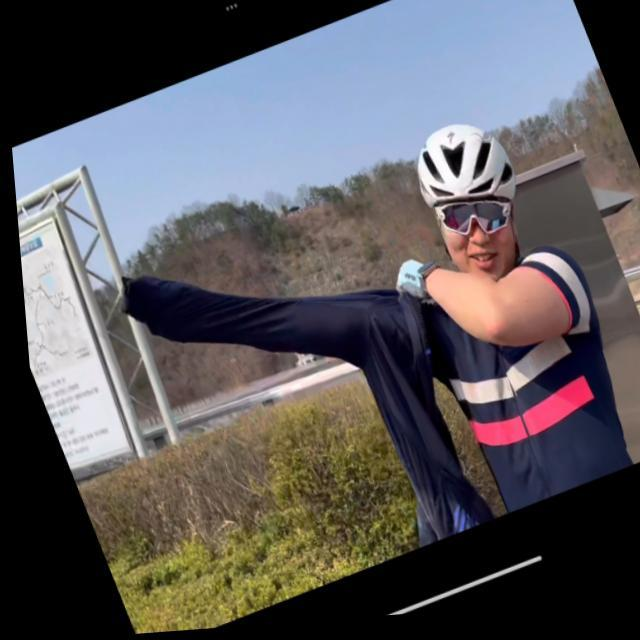Helmet: (414, 121, 518, 280)
